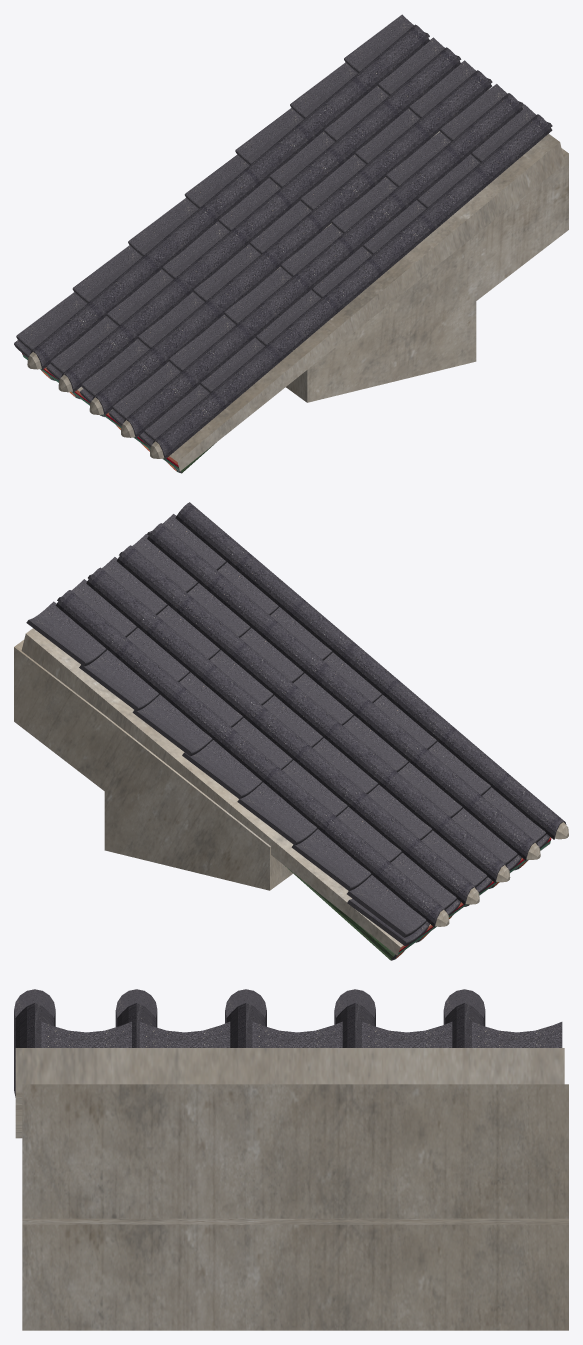
File: SM_Roof_1.fbx
The picture shows the model from 3 angles, top to bottom: view 1: azimuth 30°, elevation 25°; view 2: azimuth 150°, elevation 25°; view 3: azimuth 270°, elevation 25°; orthographic projection. The views are drawn at different scales.
Visible parts, largest first — view 1: SM_Roof_1; view 2: SM_Roof_1; view 3: SM_Roof_1.
Part boxes in pixels (left/top/right/bottom): SM_Roof_1: left=14, top=14, right=568, bottom=473; SM_Roof_1: left=14, top=502, right=568, bottom=960; SM_Roof_1: left=14, top=989, right=568, bottom=1330.
Size of the model in its own units: 336 by 222 by 218.
Materials: 4 (4 with a texture image).
